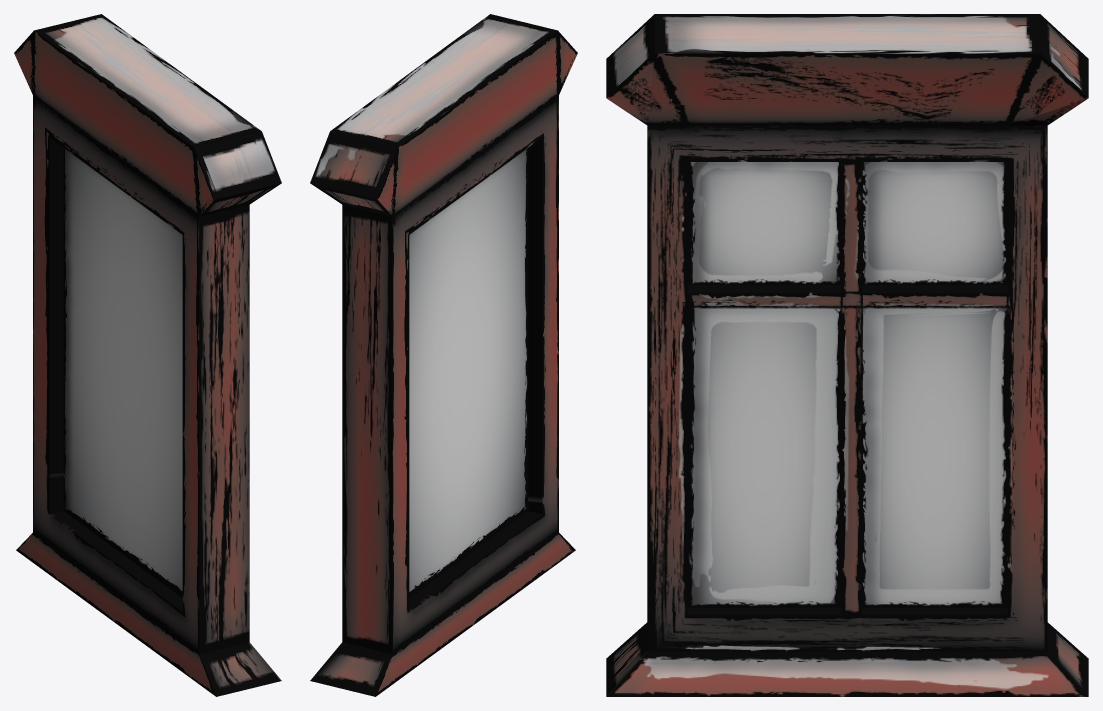
The model's file is Farmhouse_Window.fbx.
3 renders of one model, left to right at view 1: azimuth 30°, elevation 25°; view 2: azimuth 150°, elevation 25°; view 3: azimuth 270°, elevation 25°, orthographic. The views are drawn at different scales.
Visible parts, largest first — view 1: FarmHouse_Window; view 2: FarmHouse_Window; view 3: FarmHouse_Window.
Boxes of the visible parts, left/top/right/bottom form: FarmHouse_Window: left=14, top=14, right=281, bottom=696; FarmHouse_Window: left=310, top=14, right=577, bottom=696; FarmHouse_Window: left=606, top=14, right=1088, bottom=696.
Size of the model in its own units: 23.45 by 177 by 120.
